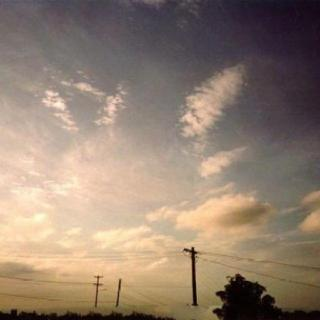Stratus: (0, 0, 320, 266)
